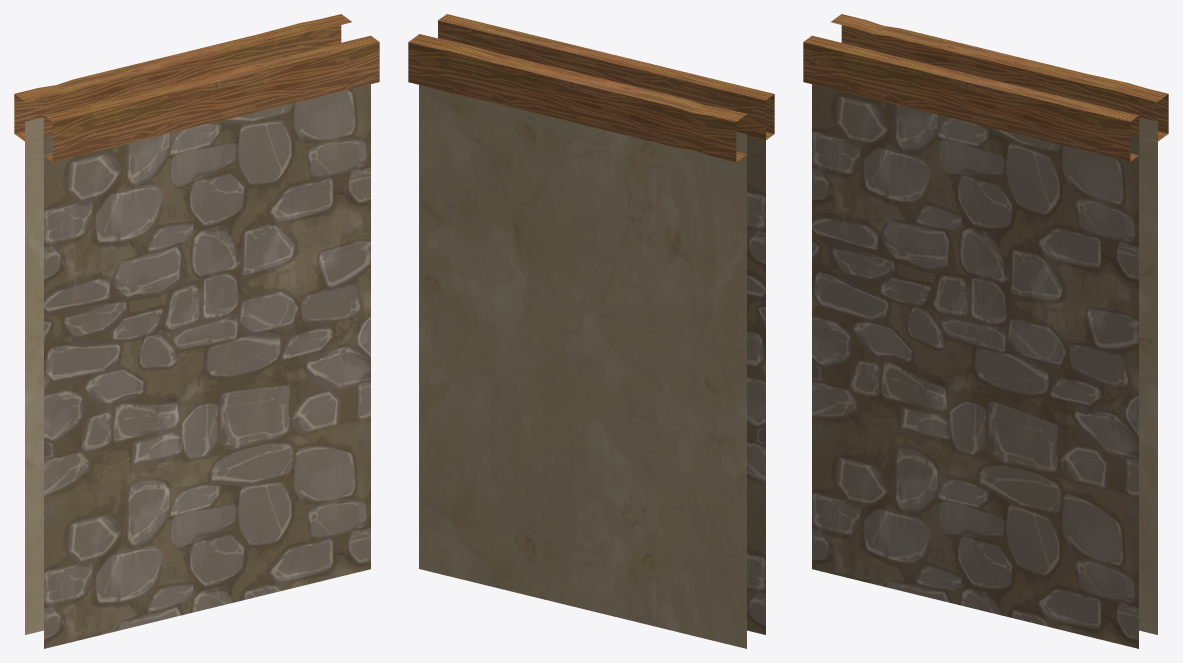
Rendered from ruin-wall.glb.
3 views of the same model, side by side, from view 1: azimuth 30°, elevation 25°; view 2: azimuth 150°, elevation 25°; view 3: azimuth 330°, elevation 25° (orthographic).
Visible parts, largest first — view 1: Wall_UnevenBrick_Straight; view 2: Wall_UnevenBrick_Straight; view 3: Wall_UnevenBrick_Straight.
Boxes of the visible parts, bbox=[...] form: Wall_UnevenBrick_Straight: bbox=[14, 14, 379, 648]; Wall_UnevenBrick_Straight: bbox=[408, 14, 774, 648]; Wall_UnevenBrick_Straight: bbox=[803, 14, 1168, 648].
Size of the model in its own units: 2 by 3.12 by 0.4066.
3 materials, 3 textured.
